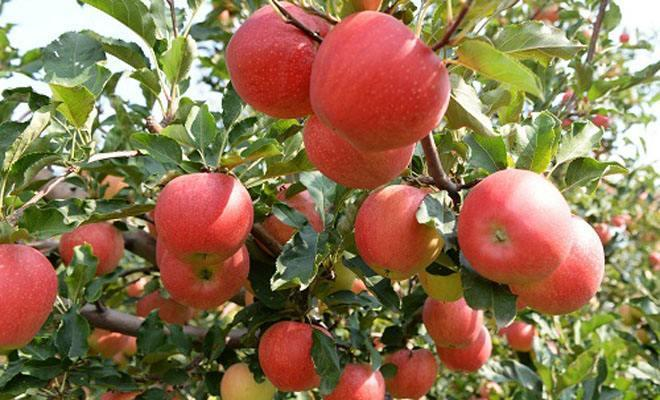apple: (311, 11, 450, 154), (458, 168, 574, 289), (226, 6, 334, 119), (153, 171, 252, 270), (302, 109, 415, 189), (353, 180, 442, 281), (515, 214, 602, 317), (1, 241, 56, 352), (420, 293, 493, 369), (257, 320, 324, 391), (58, 219, 124, 274), (378, 344, 437, 398), (321, 361, 385, 400), (218, 362, 274, 399), (502, 321, 539, 350)
